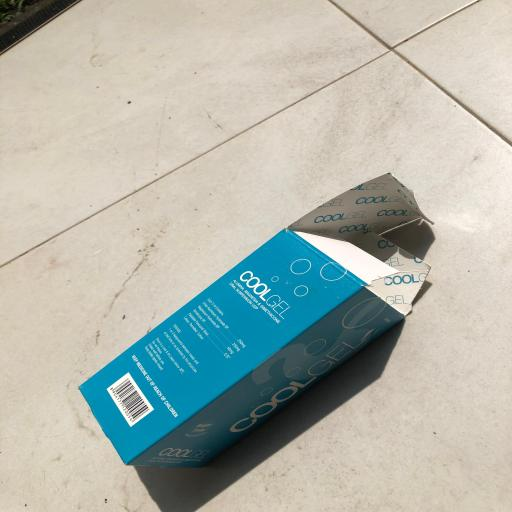waste: (63, 164, 468, 484)
